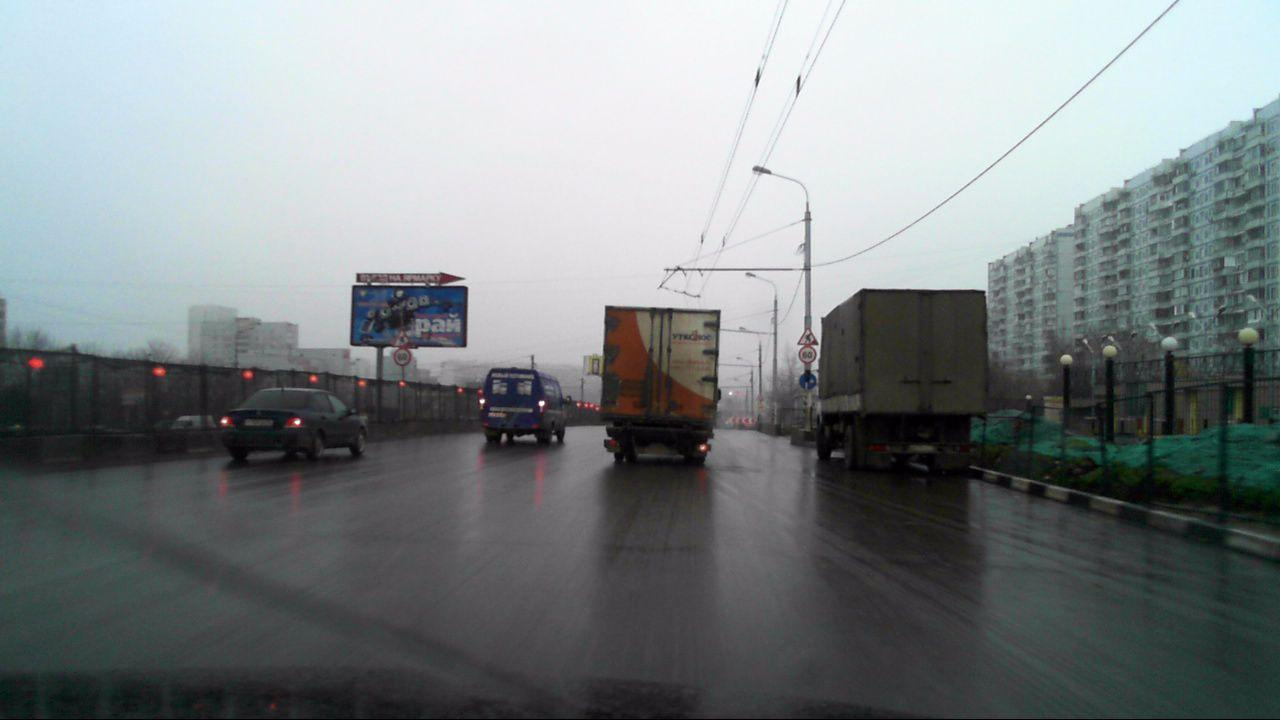obstructed_road_sign: (798, 372, 817, 391)
road_sign: (796, 325, 821, 346), (392, 349, 412, 369), (798, 345, 817, 364)
